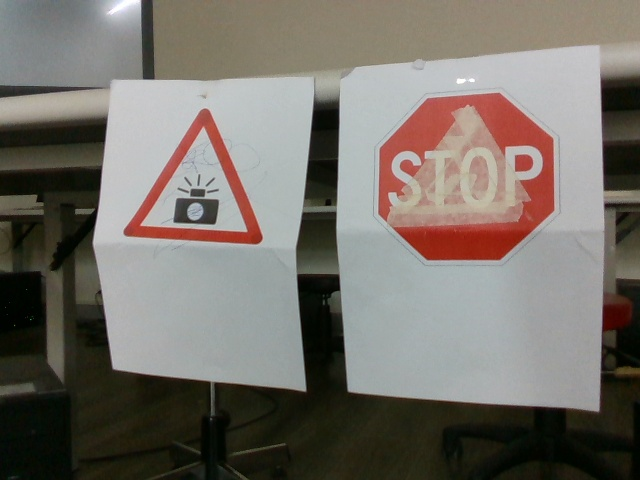camera: (124, 105, 263, 247)
stop: (378, 91, 560, 267)
